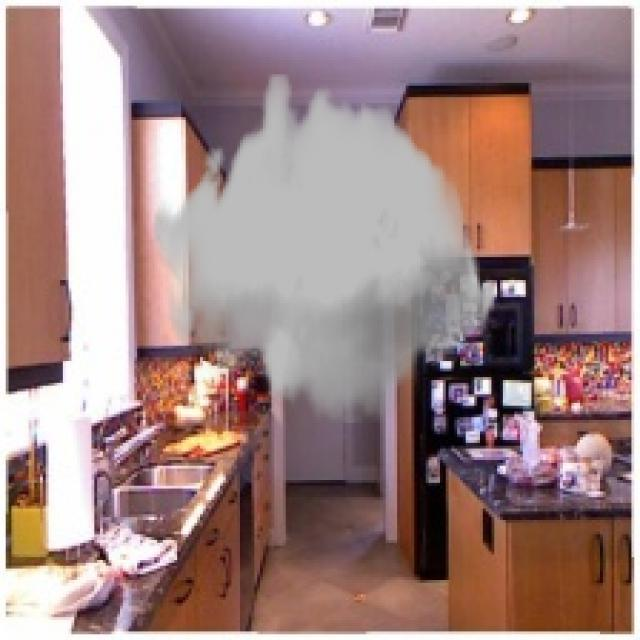Smoke: (152, 74, 497, 423)
